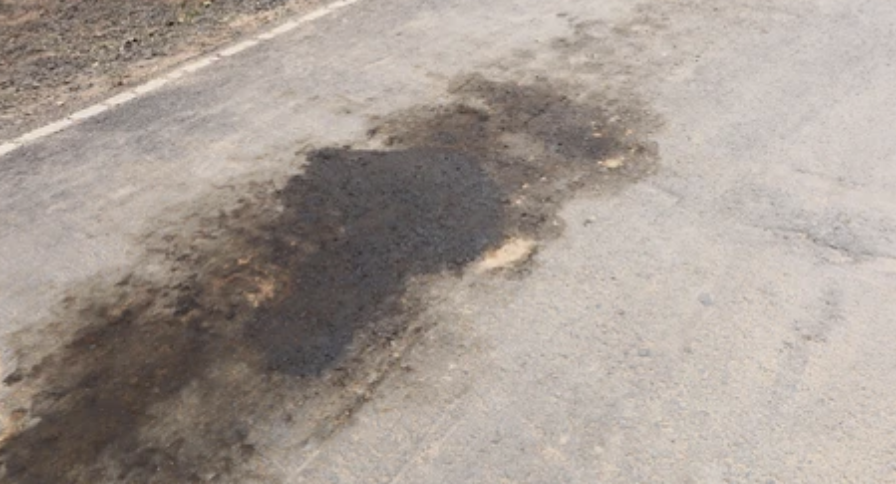oil: (1, 39, 331, 239)
